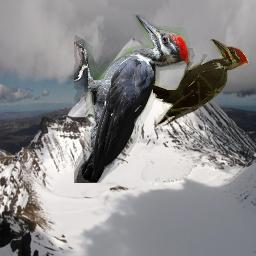Woodpecker: (74, 14, 190, 183), (153, 39, 249, 128)
